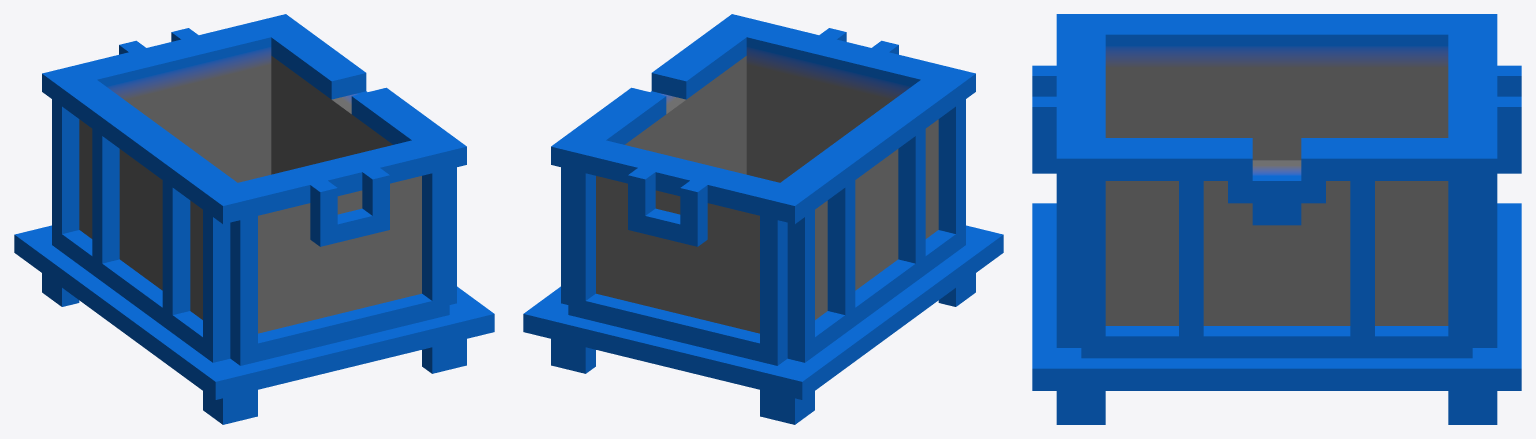
Rendered from Matrix_7.obj.
The picture shows the model from 3 angles, left to right: view 1: azimuth 30°, elevation 25°; view 2: azimuth 150°, elevation 25°; view 3: azimuth 270°, elevation 25°; orthographic projection. The views are drawn at different scales.
Visible parts, largest first — view 1: Matrix_7; view 2: Matrix_7; view 3: Matrix_7.
Part boxes in pixels (x1,y1,x2,y2): Matrix_7: [14, 14, 494, 424]; Matrix_7: [523, 14, 1003, 424]; Matrix_7: [1032, 14, 1521, 424].
Size of the model in its own units: 16 by 12 by 20.
Materials: 1 (1 with a texture image).
